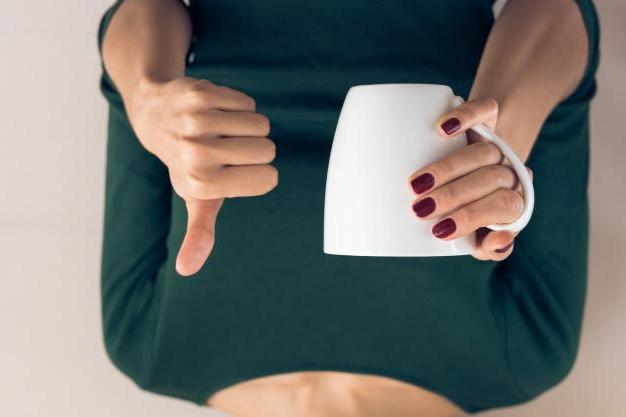thumbsdown: (174, 81, 280, 277)
